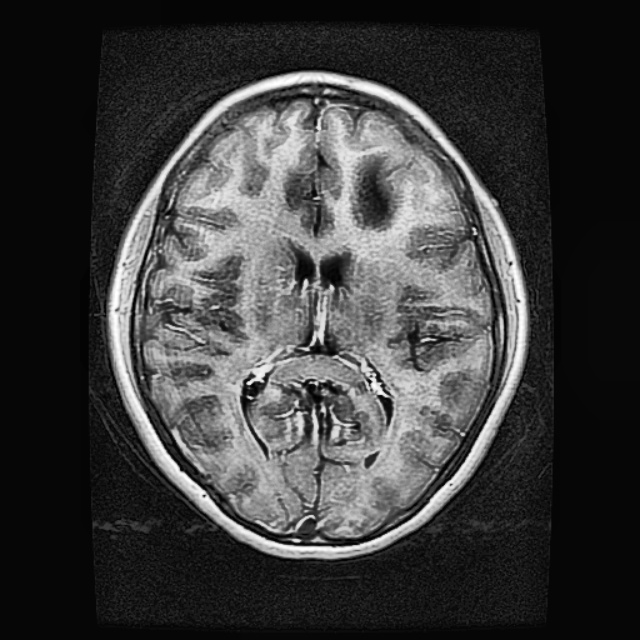Glioma: (347, 152, 398, 229)
